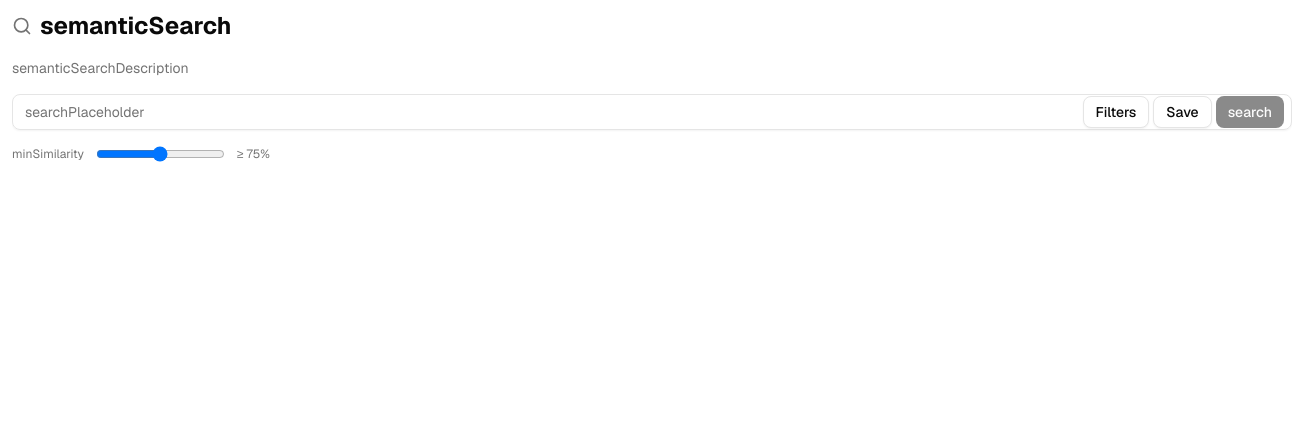
Scenario: SearchBar › Clear Functionality › clears search results when clear button is clicked
The width and height of the screenshot is (1304, 434).
Type "test" into the field with placeholder "searchPlaceholder" at (652, 112), box [12, 94, 1292, 130]
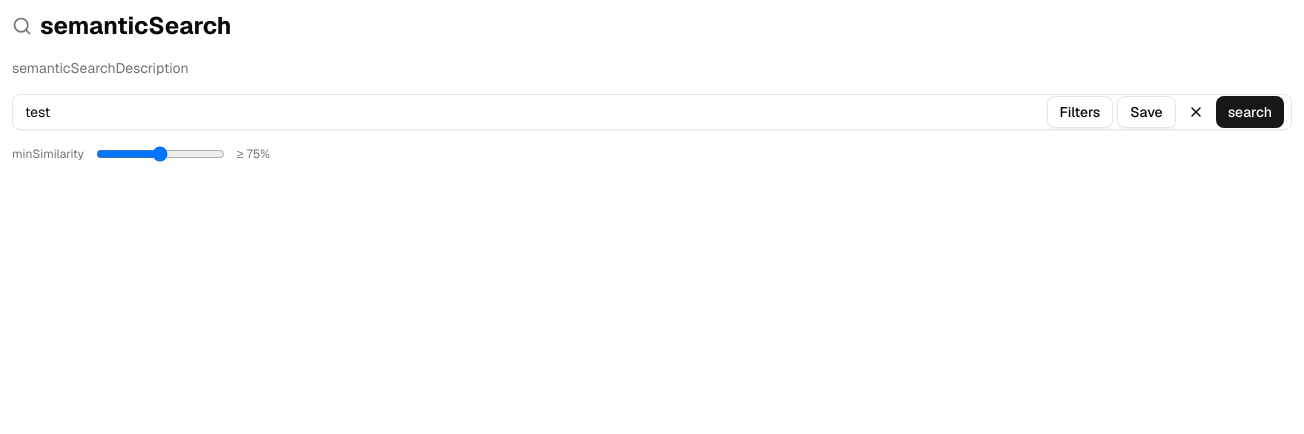
Submit the form with placeholder "searchPlaceholder", box [12, 94, 1292, 130]
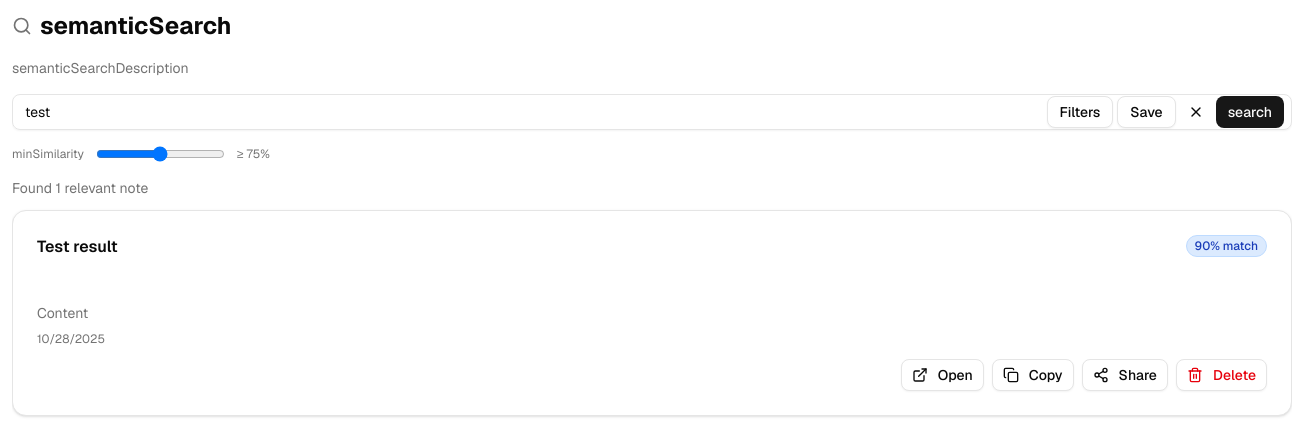
Check: the text "Test result" is shown, box [37, 235, 118, 259]
Click the button named "clear" at (1196, 112), box [1180, 96, 1212, 128]
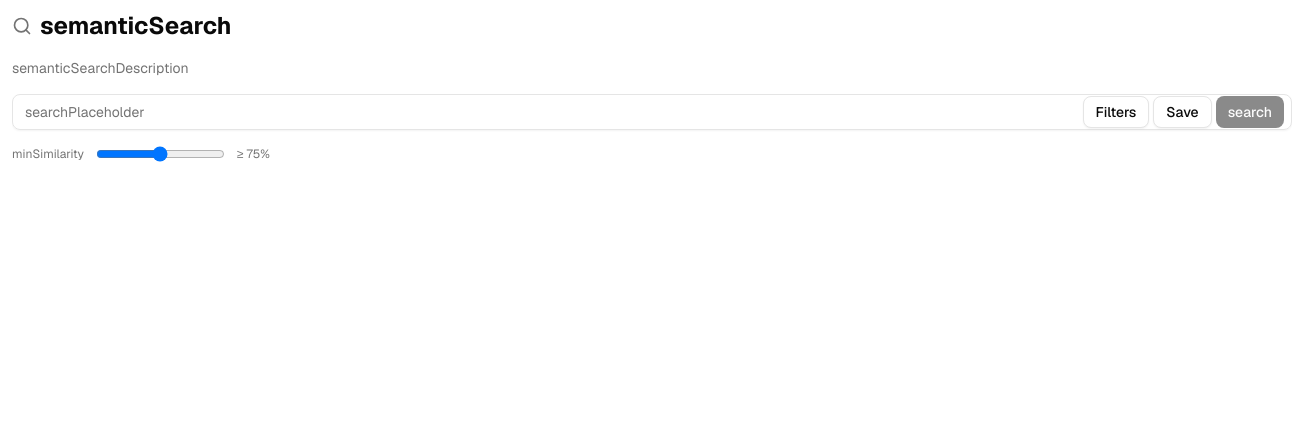
Check: the text "Test result" is gone
